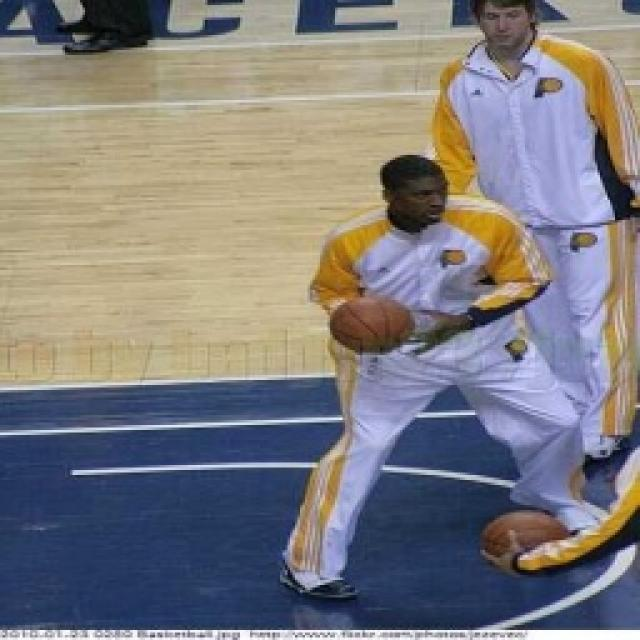basketball: (330, 294, 416, 354), (482, 508, 564, 570)
